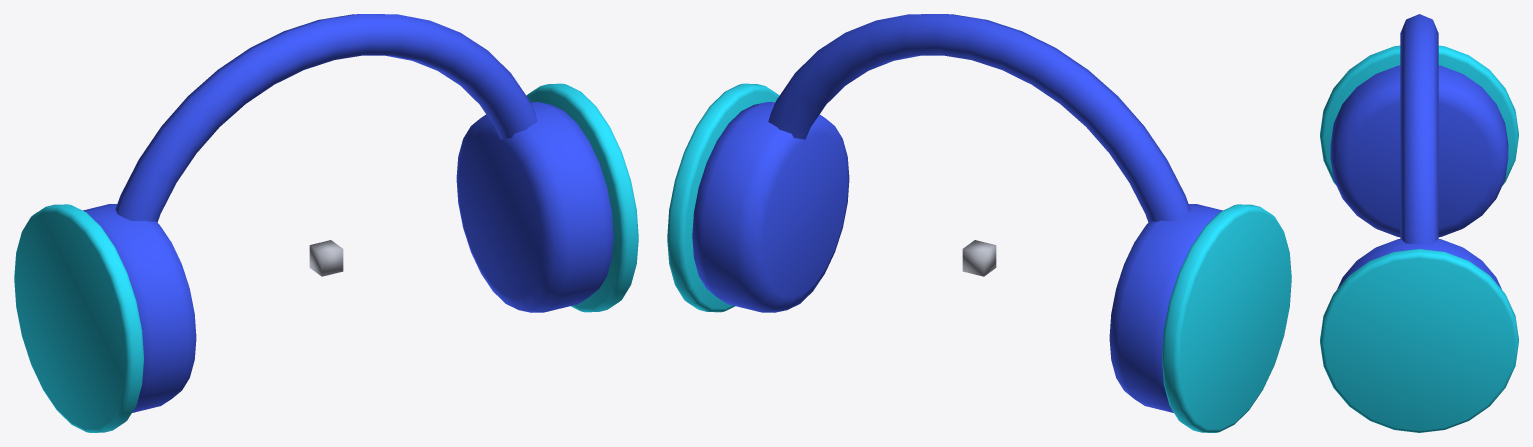
The model's file is Rare.fbx.
3 views of the same model, side by side, from view 1: azimuth 30°, elevation 25°; view 2: azimuth 150°, elevation 25°; view 3: azimuth 270°, elevation 25° (orthographic). The views are drawn at different scales.
Visible parts, largest first — view 1: Blue, Pulse_Ring-1, Pulse_Ring1, KitOrigin; view 2: Blue, Pulse_Ring-1, Pulse_Ring1, KitOrigin; view 3: Pulse_Ring1, Blue, Pulse_Ring-1.
Boxes of the visible parts, box(x1,y1,x2,y2) form: Blue: box(83, 14, 613, 412); Pulse_Ring-1: box(14, 204, 143, 432); Pulse_Ring1: box(526, 83, 638, 312); KitOrigin: box(309, 240, 343, 276); Blue: box(692, 14, 1222, 412); Pulse_Ring-1: box(1162, 204, 1291, 432); Pulse_Ring1: box(667, 83, 779, 312); KitOrigin: box(962, 240, 996, 276); Pulse_Ring1: box(1320, 249, 1518, 432); Blue: box(1330, 14, 1508, 289); Pulse_Ring-1: box(1320, 45, 1518, 185).
Bounding box in the file's own units: 2.38 × 1.53 × 0.94.
